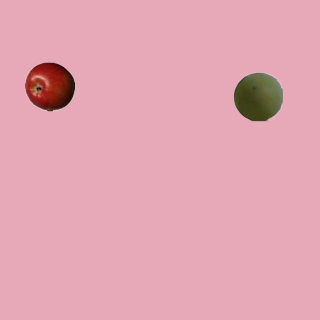Apple Braeburn: (24, 61, 74, 111)
Grape White 4: (232, 71, 282, 121)
